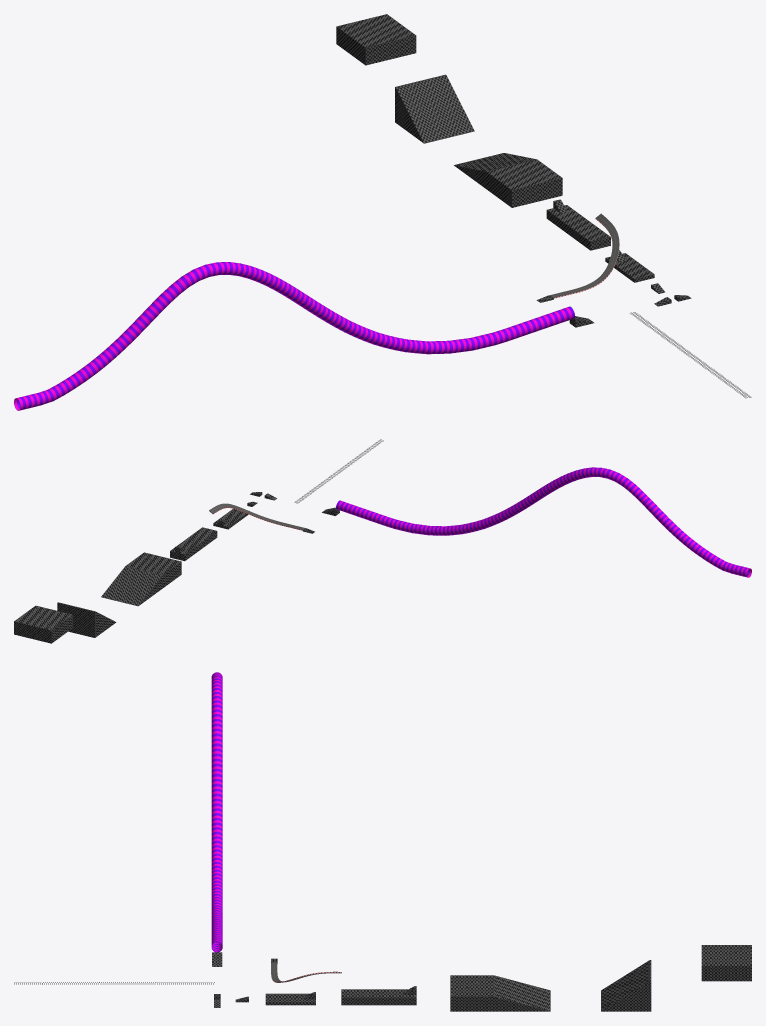
File: track-6.glb
3 renders of one model, top to bottom at view 1: azimuth 30°, elevation 25°; view 2: azimuth 150°, elevation 25°; view 3: azimuth 270°, elevation 25°, orthographic. The views are drawn at different scales.
Visible parts, largest first — view 1: Cylinder, Cube.008, Cube.007, Cube.009, Cylinder_Material_0.001, Cube.005, Cube_0, Cube.003; view 2: Cylinder, Cube.007, Cube.009, Cylinder_Material_0.001, Cube.008, Cube.005, Cube_0, Cube.003; view 3: Cylinder, Cube.007, Cube.008, Cube.009, Cube.005, Cylinder_Material_0.001, Cube.003.
Boxes of the visible parts, box(x1,y1,x2,y2) form: Cylinder: box(14, 262, 574, 410); Cube.008: box(395, 74, 474, 143); Cube.007: box(454, 153, 562, 207); Cube.009: box(336, 14, 416, 65); Cylinder_Material_0.001: box(14, 262, 573, 410); Cube.005: box(546, 205, 610, 250); Cube_0: box(550, 213, 619, 298); Cube.003: box(605, 253, 654, 282); Cylinder: box(336, 467, 751, 577); Cube.007: box(101, 552, 181, 606); Cube.009: box(14, 605, 73, 643); Cylinder_Material_0.001: box(336, 467, 750, 577); Cube.008: box(57, 602, 116, 637); Cube.005: box(170, 527, 217, 561); Cube_0: box(209, 503, 305, 530); Cube.003: box(213, 508, 248, 529); Cylinder: box(211, 672, 222, 952); Cube.007: box(450, 975, 550, 1011); Cube.008: box(601, 960, 651, 1011); Cube.009: box(701, 945, 751, 981); Cube.005: box(341, 989, 416, 1005); Cylinder_Material_0.001: box(211, 673, 222, 951); Cube.003: box(265, 993, 315, 1005).
Size of what is drawn, in the model's own units: 403 by 84.67 by 440.
Materials: 5 (5 with a texture image).
